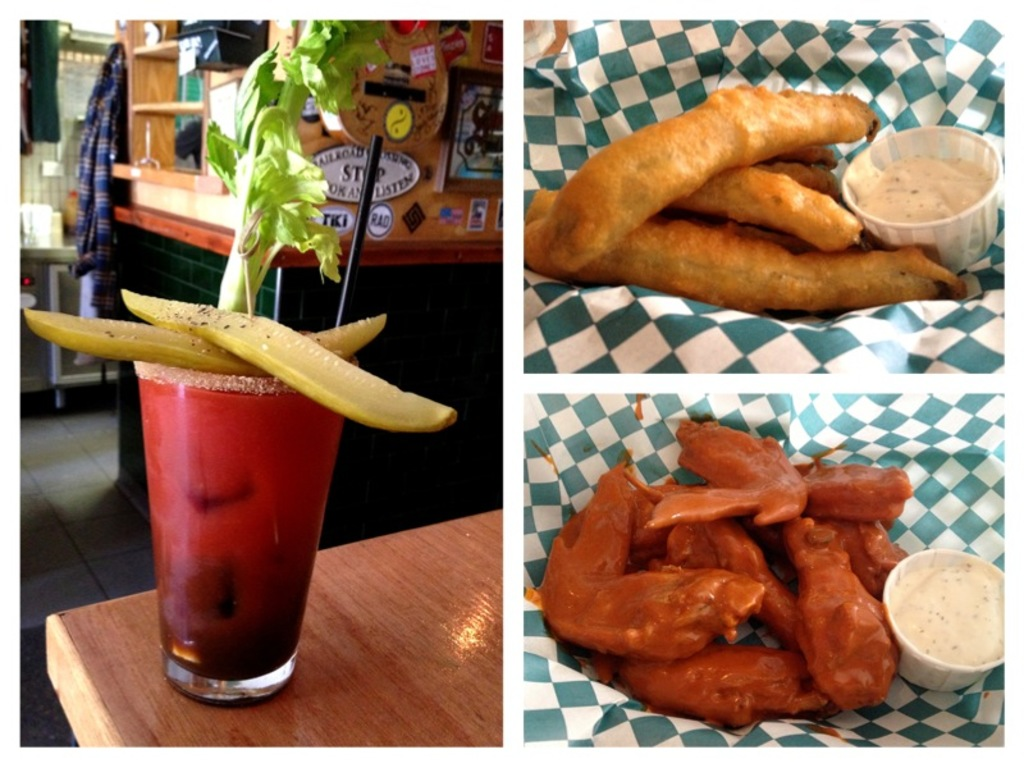French fries: (506, 74, 920, 326)
